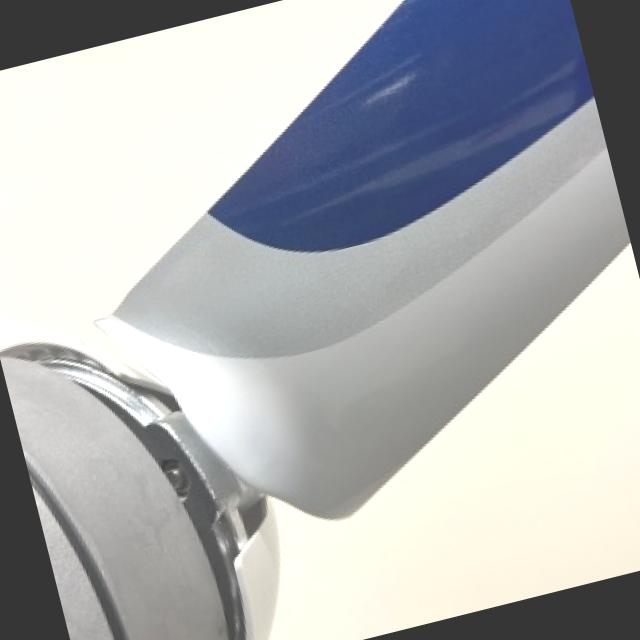healthy: (272, 243, 640, 640)
